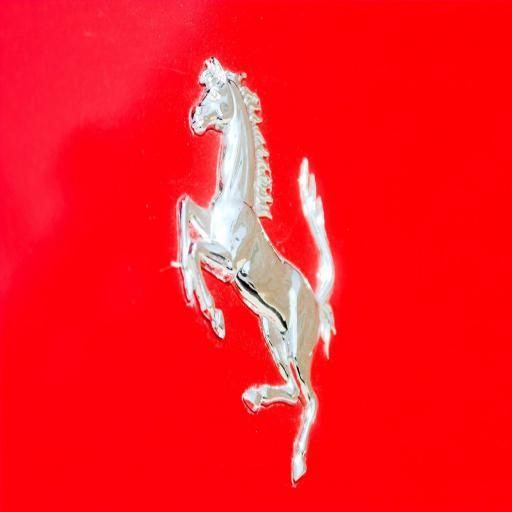Horse: (178, 57, 336, 476)
